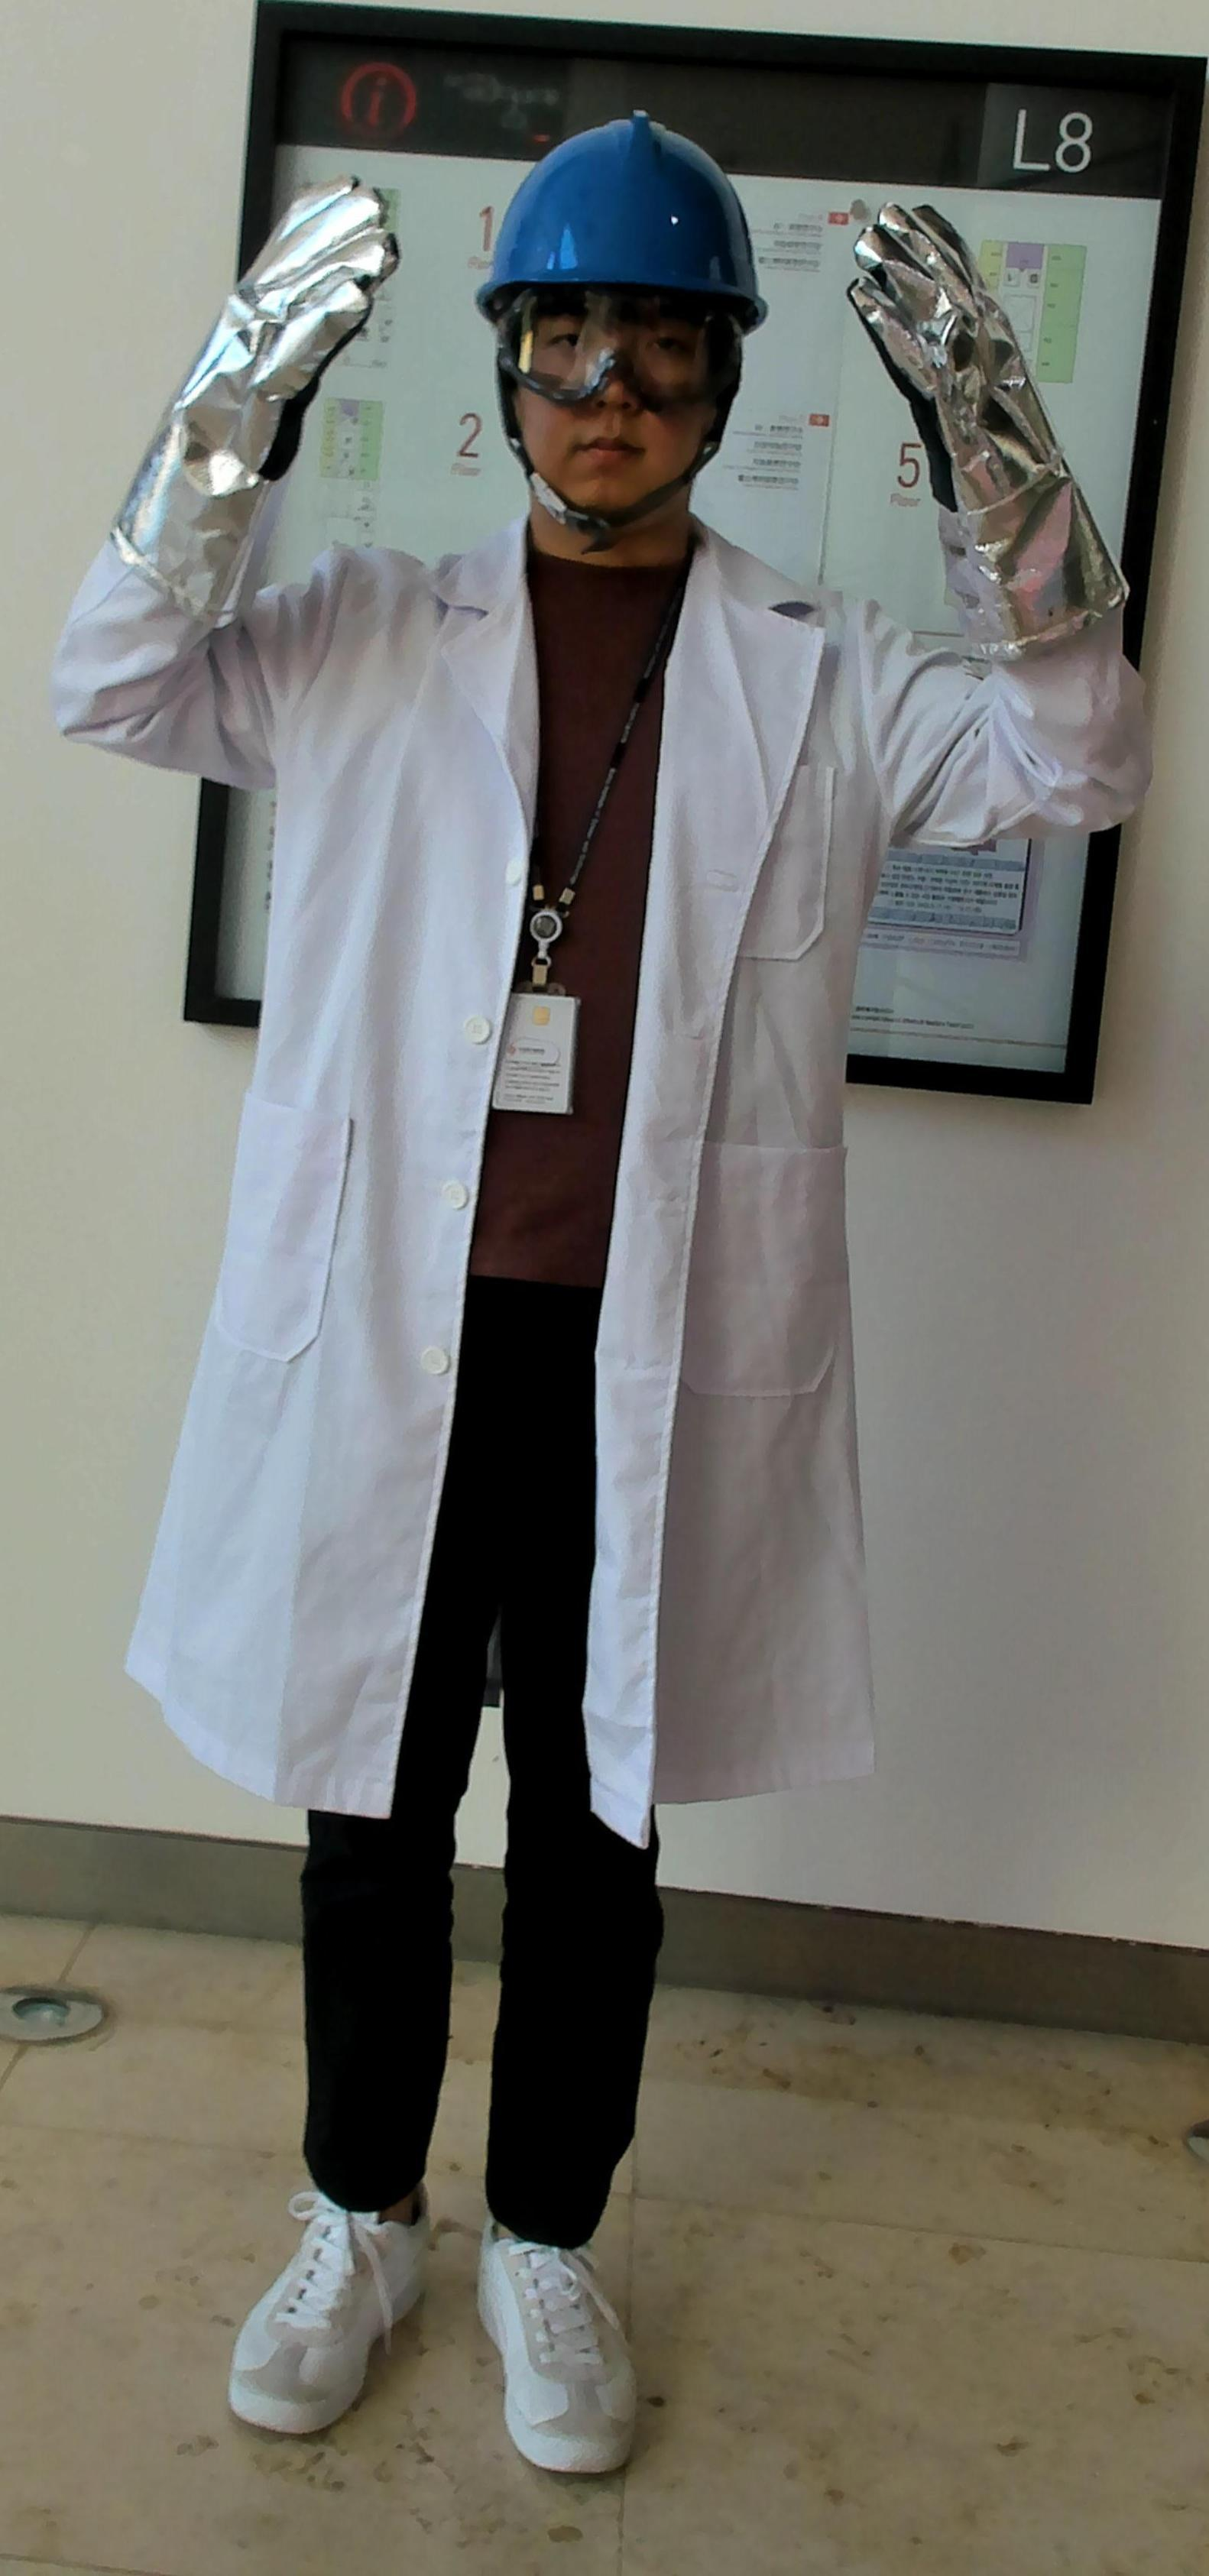lab_coat: (253, 552, 877, 1799)
